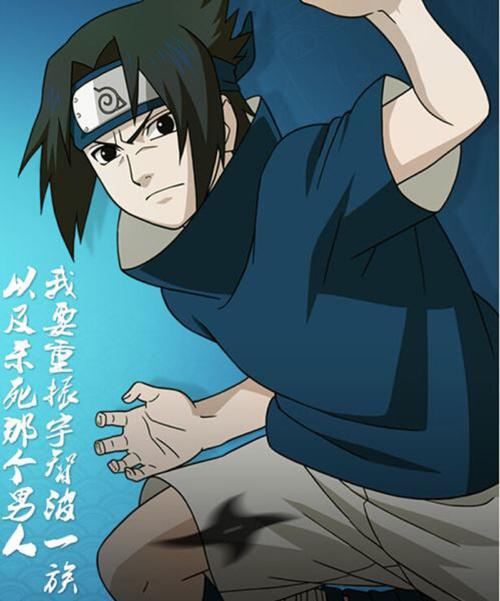sasuke: (66, 35, 239, 231)
